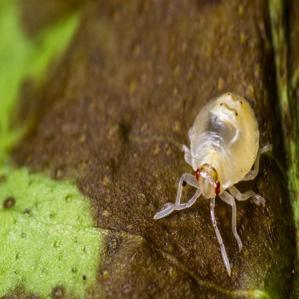spider mite: (138, 79, 276, 252)
